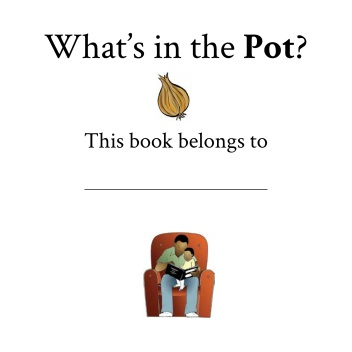latin: (41, 27, 308, 63), (82, 129, 268, 154)
